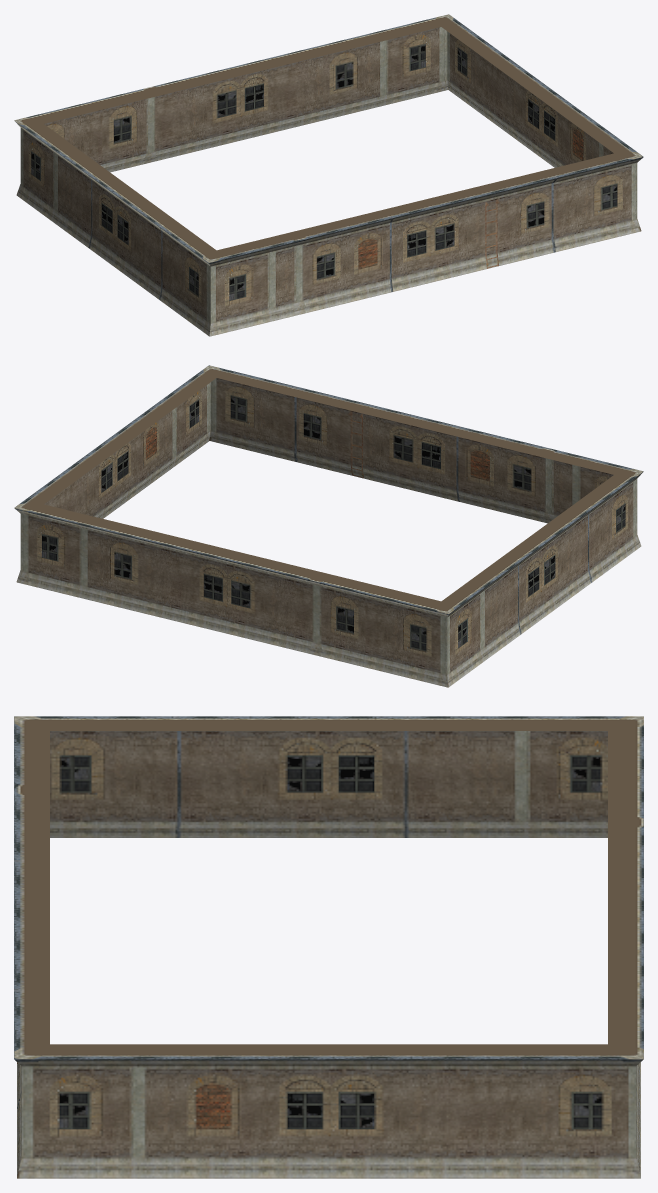
File: Build7_el2_LOD1.fbx
The picture shows the model from 3 angles, top to bottom: view 1: azimuth 30°, elevation 25°; view 2: azimuth 150°, elevation 25°; view 3: azimuth 270°, elevation 25°; orthographic projection. The views are drawn at different scales.
Visible parts, largest first — view 1: polySurface125; view 2: polySurface125; view 3: polySurface125.
Part boxes in pixels (bbox=[...]): polySurface125: bbox=[14, 14, 643, 336]; polySurface125: bbox=[14, 365, 643, 687]; polySurface125: bbox=[14, 716, 643, 1178].
Size of the model in its own units: 16.88 by 2.77 by 13.1.
